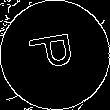P_E: (27, 32, 83, 78)
